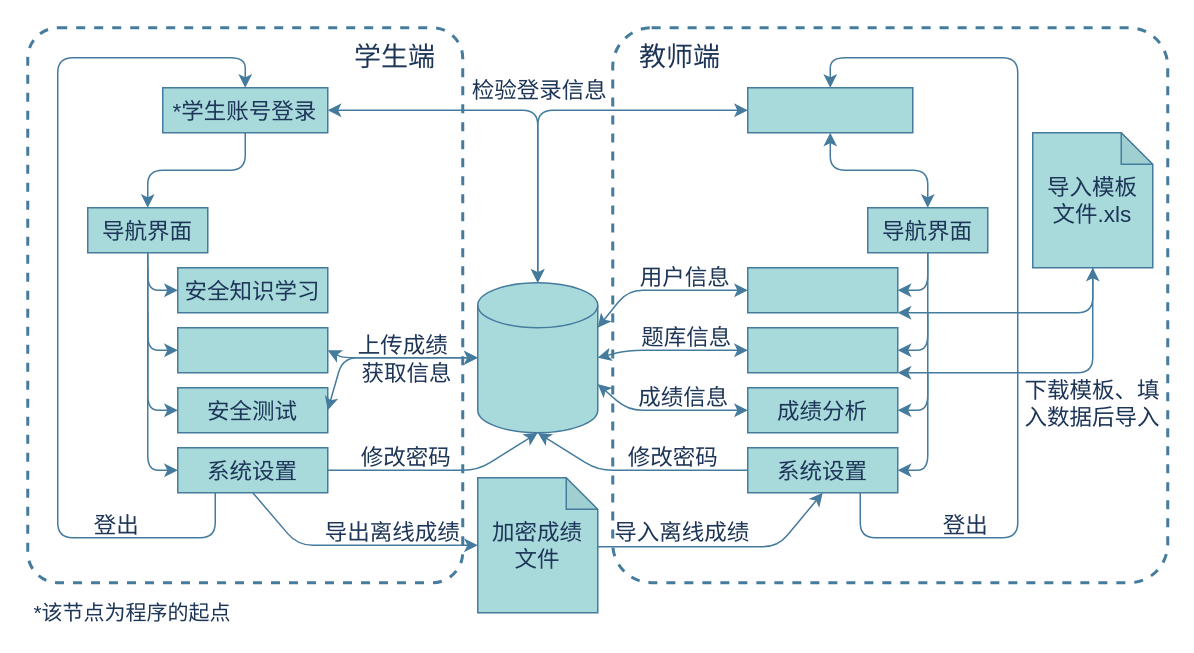
The diagram is 1194 pixels wide and 653 high, and some of its shapes have lost their labels. Here are the shapes that lost their labels. From the top down, the centre of each, then its label:
(x=829, y=109): *教师账号登录
(x=822, y=289): 用户管理
(x=252, y=349): 安全模拟操作
(x=537, y=357): 数据库
(x=822, y=349): 题库管理
